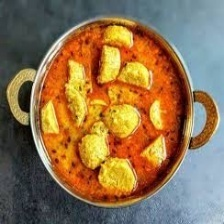sabzi: (32, 19, 193, 208)
